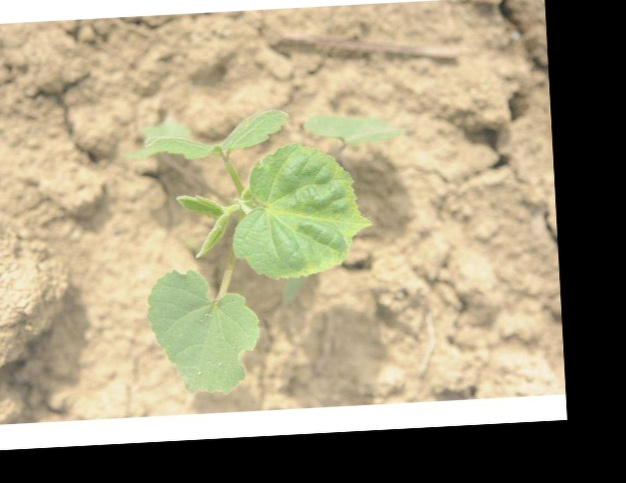velvet: (127, 109, 410, 390)
